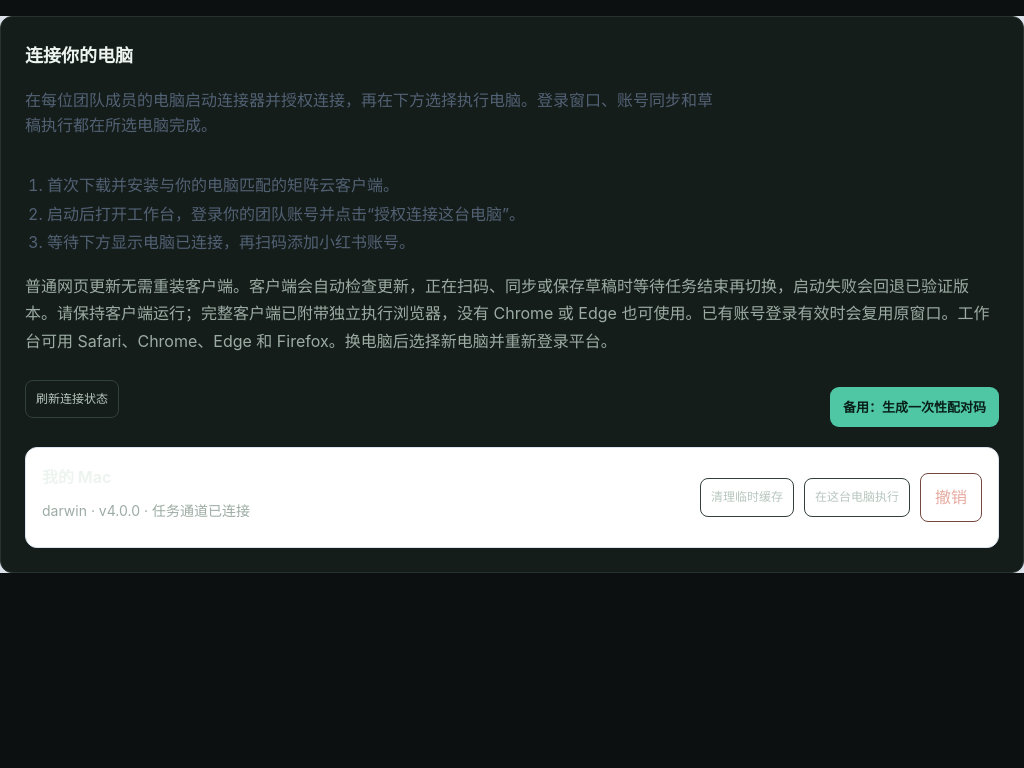
Test: keeps the device visible when revocation fails
Click the button "撤销" at [951, 497], box [920,473,982,522]
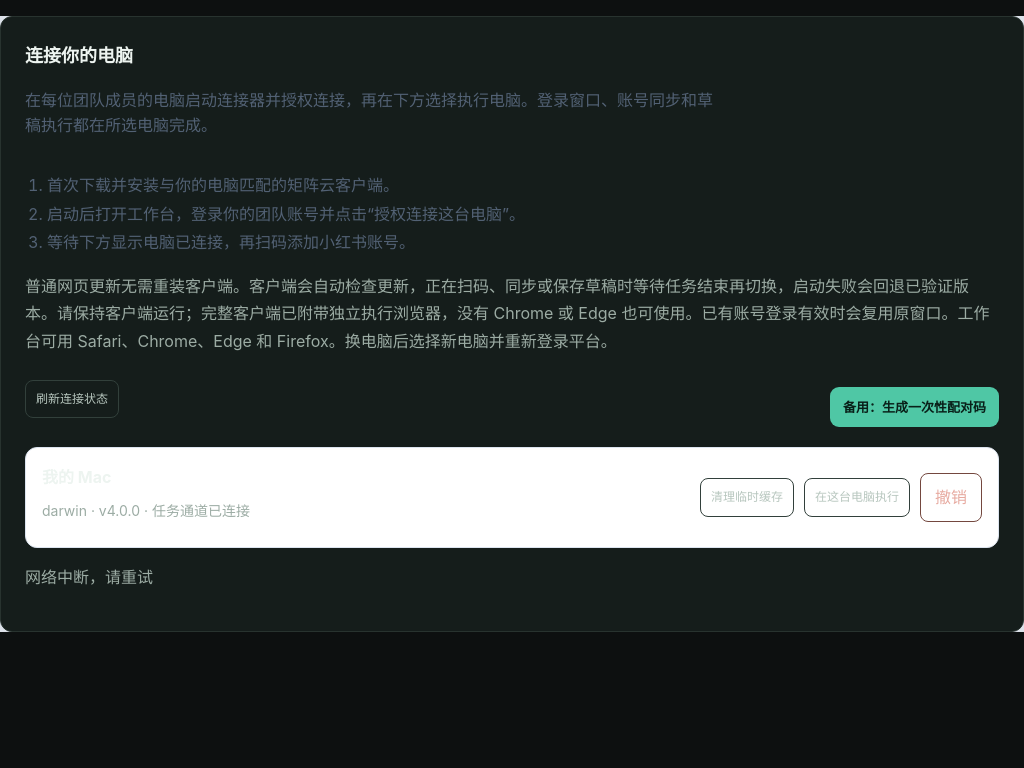
Check: the message shows "网络中断", box [25,567,153,587]
